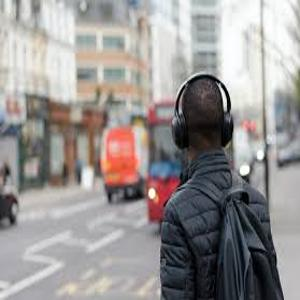Headphones: (170, 72, 234, 149)
